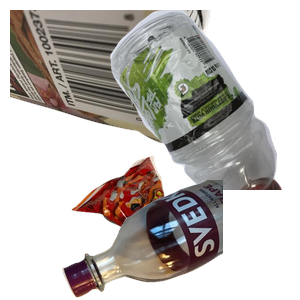cardboard: (10, 10, 213, 146)
glass: (60, 180, 300, 300)
plastic: (73, 10, 300, 190)
trash: (69, 153, 239, 300)
